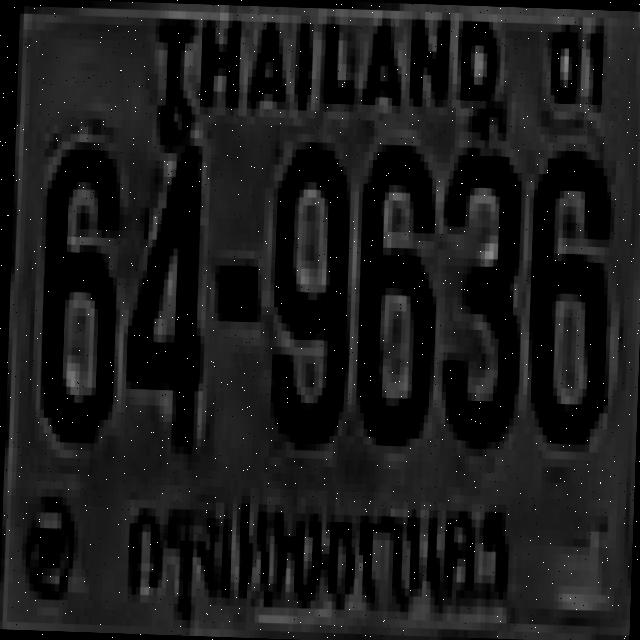3: (436, 146, 522, 442)
4: (122, 136, 205, 438)
6: (521, 142, 612, 436), (350, 136, 433, 438), (34, 140, 117, 436)
9: (264, 140, 348, 436)
Bangkok: (124, 481, 514, 632)
